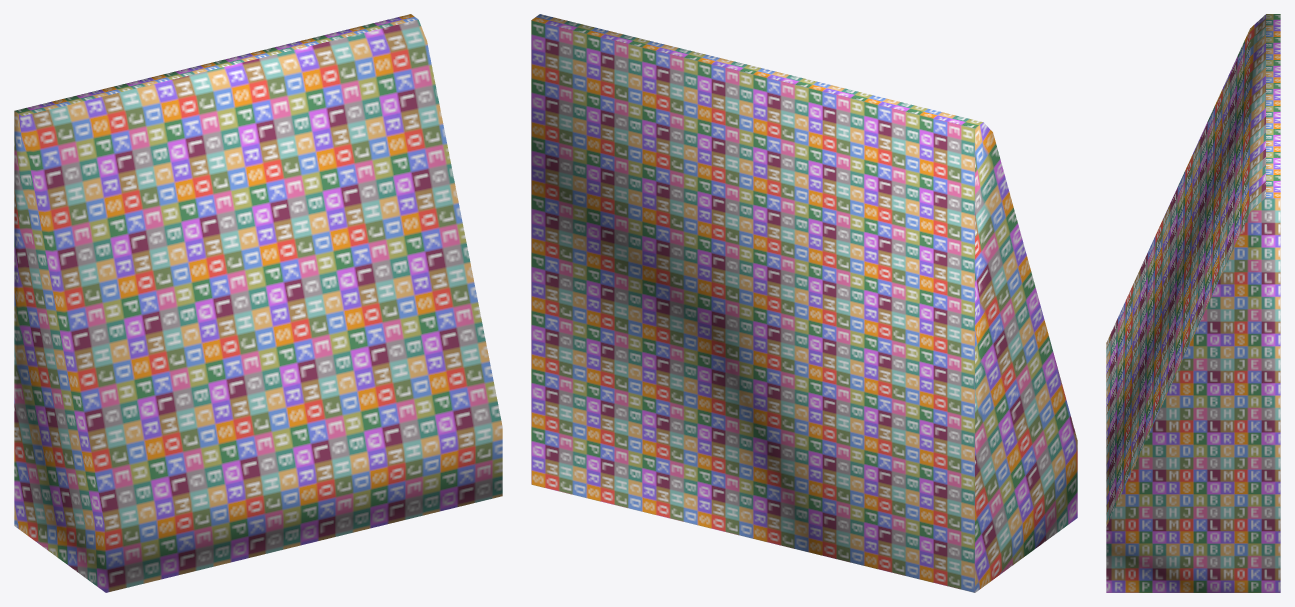
Rendered from vent_slab_bbox.obj.
3 renders of one model, left to right at view 1: azimuth 30°, elevation 25°; view 2: azimuth 150°, elevation 25°; view 3: azimuth 270°, elevation 25°, orthographic. The views are drawn at different scales.
Visible parts, largest first — view 1: Cube2; view 2: Cube2; view 3: Cube2.
Part boxes in pixels (x1,y1,x2,y2): Cube2: [14, 14, 502, 592]; Cube2: [531, 14, 1077, 592]; Cube2: [1106, 14, 1280, 592].
Bounding box in the file's own units: 3 × 3 × 1.2.
